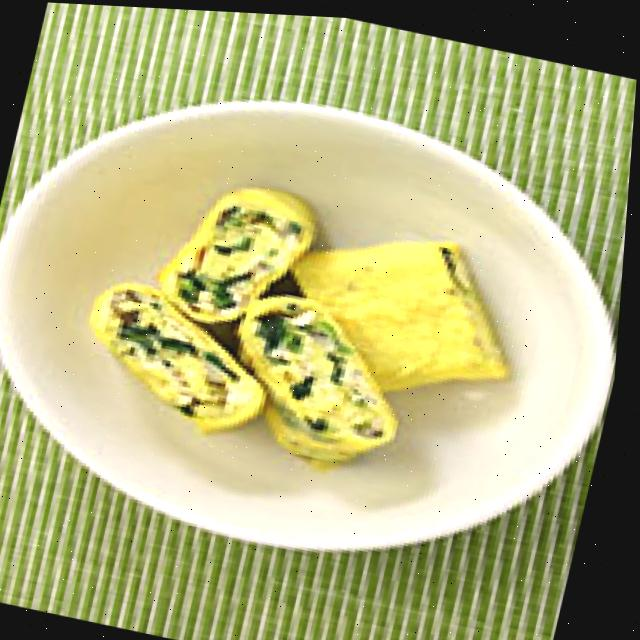鸡蛋料理: (42, 141, 543, 510)
